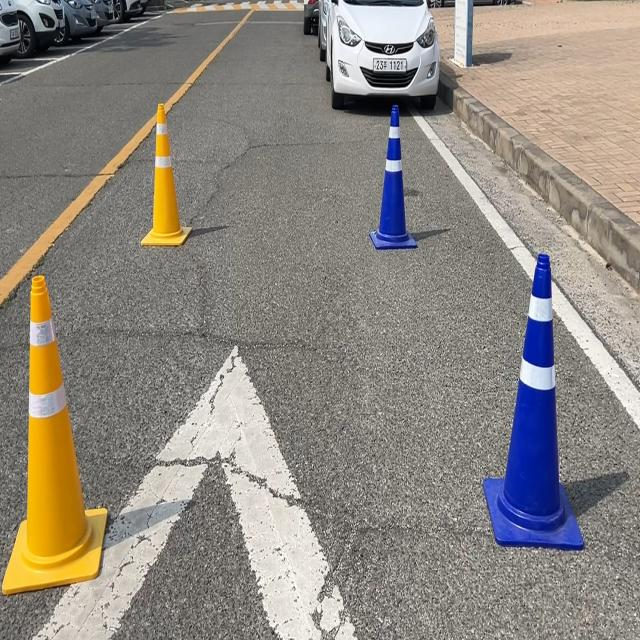b_rub: (484, 252, 585, 550), (369, 103, 418, 249)
y_rub: (1, 275, 107, 595), (140, 102, 191, 245)
